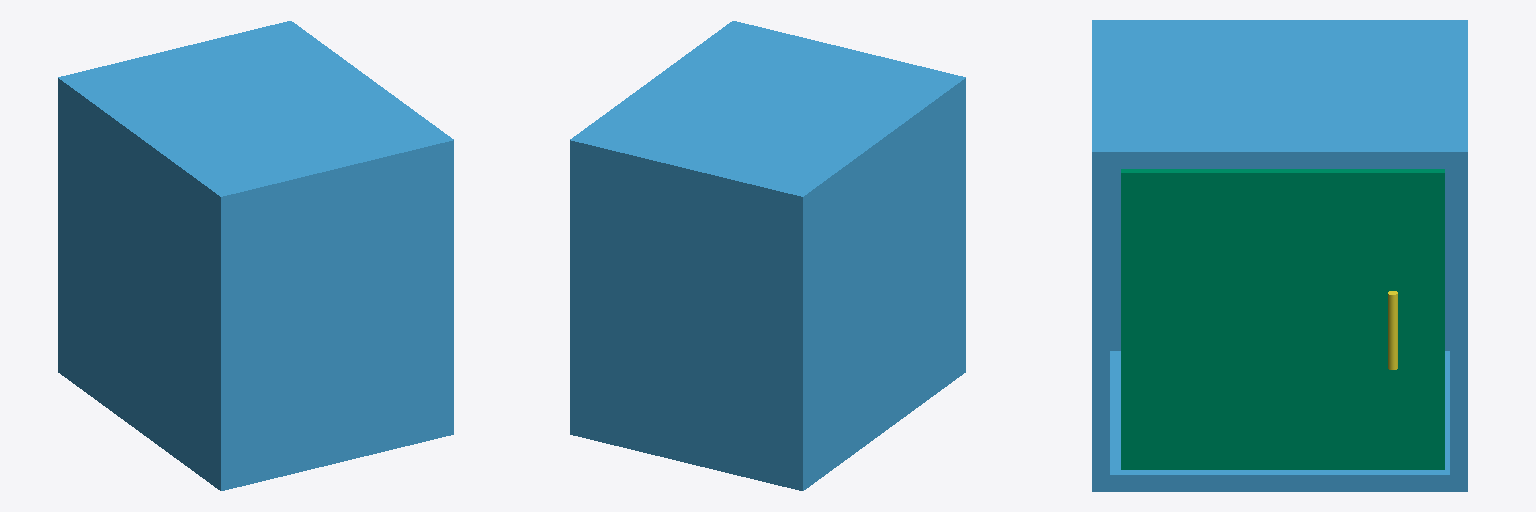
The robot description file, URDF, robot "my_cabinet":
<?xml version="1.0" ?>
<robot name="my_cabinet">
	<link name="world"/>
	<joint name="virtual_joint" type="fixed">
		<parent link="world"/>
		<child link="base_cabinet_link"/>
		<origin xyz="0.0 0.0 0.0" rpy="0.0 0.0 0.0"/>
	</joint>
	<link name="base_cabinet_link">
		<visual>
			<origin xyz="0.0 -0.0025 -0.17178763787770465" rpy="0.0 0.0 0.0"/>
			<geometry>
				<box size="0.3 0.363681896552413 0.018"/>
			</geometry>
		</visual>
		<collision name="base_cabinet_link_collision_0">
			<origin xyz="0.0 -0.0025 -0.17178763787770465" rpy="0.0 0.0 0.0"/>
			<geometry>
				<box size="0.3 0.363681896552413 0.018"/>
			</geometry>
		</collision>
		<visual>
			<origin xyz="0.0 0.17034094827620652 0.0" rpy="0.0 0.0 0.0"/>
			<geometry>
				<box size="0.3 0.018 0.3615752757554093"/>
			</geometry>
		</visual>
		<collision name="base_cabinet_link_collision_1">
			<origin xyz="0.0 0.17034094827620652 0.0" rpy="0.0 0.0 0.0"/>
			<geometry>
				<box size="0.3 0.018 0.3615752757554093"/>
			</geometry>
		</collision>
		<visual>
			<origin xyz="0.0 -0.17534094827620653 0.0" rpy="0.0 0.0 0.0"/>
			<geometry>
				<box size="0.3 0.018 0.3615752757554093"/>
			</geometry>
		</visual>
		<collision name="base_cabinet_link_collision_2">
			<origin xyz="0.0 -0.17534094827620653 0.0" rpy="0.0 0.0 0.0"/>
			<geometry>
				<box size="0.3 0.018 0.3615752757554093"/>
			</geometry>
		</collision>
		<visual>
			<origin xyz="0.0 -0.0025 0.17178763787770465" rpy="0.0 0.0 0.0"/>
			<geometry>
				<box size="0.3 0.363681896552413 0.018"/>
			</geometry>
		</visual>
		<collision name="base_cabinet_link_collision_3">
			<origin xyz="0.0 -0.0025 0.17178763787770465" rpy="0.0 0.0 0.0"/>
			<geometry>
				<box size="0.3 0.363681896552413 0.018"/>
			</geometry>
		</collision>
		<visual>
			<origin xyz="-0.141 -0.0025 0.0" rpy="0.0 0.0 0.0"/>
			<geometry>
				<box size="0.018 0.363681896552413 0.3615752757554093"/>
			</geometry>
		</visual>
		<collision name="base_cabinet_link_collision_4">
			<origin xyz="-0.141 -0.0025 0.0" rpy="0.0 0.0 0.0"/>
			<geometry>
				<box size="0.018 0.363681896552413 0.3615752757554093"/>
			</geometry>
		</collision>
		<inertial>
			<mass value="0.200000"/>
			<inertia ixx="0.004383" ixy="0.0" ixz="0.0" iyy="0.003679" iyz="0.0" izz="0.003704"/>
		</inertial>
	</link>
	<link name="door_link">
		<visual>
			<origin xyz="0.0 -0.1563409482762065 0.0"/>
			<geometry>
				<box size="0.018 0.312681896552413 0.3155752757554093"/>
			</geometry>
		</visual>
		<collision name="door_link_collision">
			<origin xyz="0.0 -0.1563409482762065 0.0"/>
			<geometry>
				<box size="0.018 0.312681896552413 0.3155752757554093"/>
			</geometry>
		</collision>
		<inertial>
			<mass value="0.200000"/>
			<inertia ixx="0.003289" ixy="0.0" ixz="0.0" iyy="0.001665" iyz="0.0" izz="0.001635"/>
		</inertial>
	</link>
	<joint name="door_joint" type="revolute">
		<origin xyz="0.141 -0.1563409482762065 0.0" rpy="0.000000 -0.000000 3.141593"/>
		<axis xyz="0 0 1"/>
		<parent link="base_cabinet_link"/>
		<child link="door_link"/>
		<limit effort="50" lower="-1.658062789394613" upper="0" velocity="10"/>
		<dynamics friction="3.5" damping="3.5"/>
	</joint>
	<link name="handle_link">
		<visual>
			<origin xyz="0.0 0.0 0.0" rpy="0.0 0.0 0.0"/>
			<geometry>
				<cylinder length="0.08" radius="0.005"/>
			</geometry>
		</visual>
		<collision name="handle_link_collision_0">
			<origin xyz="0.0 0.0 0.0" rpy="0.0 0.0 0.0"/>
			<geometry>
				<cylinder length="0.08" radius="0.005"/>
			</geometry>
		</collision>
		<visual>
			<origin xyz="-0.01 0.0 0.02" rpy="0.0 1.5707963267948966 0.0"/>
			<geometry>
				<cylinder length="0.02" radius="0.003"/>
			</geometry>
		</visual>
		<collision name="handle_link_collision_1">
			<origin xyz="-0.01 0.0 0.02" rpy="0.0 1.5707963267948966 0.0"/>
			<geometry>
				<cylinder length="0.01" radius="0.003"/>
			</geometry>
		</collision>
		<visual>
			<origin xyz="-0.01 0.0 -0.02" rpy="0.0 1.5707963267948966 0.0"/>
			<geometry>
				<cylinder length="0.02" radius="0.003"/>
			</geometry>
		</visual>
		<collision name="handle_link_collision_2">
			<origin xyz="-0.01 0.0 -0.02" rpy="0.0 1.5707963267948966 0.0"/>
			<geometry>
				<cylinder length="0.02" radius="0.003"/>
			</geometry>
		</collision>
		<inertial>
			<mass value="0.050000"/>
			<inertia ixx="0.000027" ixy="0.0" ixz="0.0" iyy="0.000029" iyz="0.0" izz="0.000003"/>
		</inertial>
	</link>
	<joint name="handle_joint" type="fixed">
		<origin xyz="-0.028999999999999998 -0.26268189655241303 0.0" rpy="0.000000 -0.000000 3.141593"/>
		<parent link="door_link"/>
		<child link="handle_link"/>
	</joint>
	<gazebo reference="base_cabinet_link">
		<sensor name="main_sensor" type="contact">
			<selfCollide>true</selfCollide>
			<alwaysOn>true</alwaysOn>
			<updateRate>5.0</updateRate>
			<material>Gazebo/Red</material>
			<contact>
				<collision>base_cabinet_link_collision_0_collision</collision>
				<collision>base_cabinet_link_collision_1_collision</collision>
				<collision>base_cabinet_link_collision_2_collision</collision>
				<collision>base_cabinet_link_collision_3_collision</collision>
				<collision>base_cabinet_link_collision_4_collision</collision>
			</contact>
			<plugin name="gazebo_ros_bumper_controller" filename="libgazebo_ros_bumper.so">
				<bumperTopicName>/contact</bumperTopicName>
				<frameName>world</frameName>
			</plugin>
		</sensor>
	</gazebo>
	<gazebo reference="door_link">
		<sensor name="main_sensor" type="contact">
			<selfCollide>true</selfCollide>
			<alwaysOn>true</alwaysOn>
			<updateRate>5.0</updateRate>
			<material>Gazebo/Red</material>
			<contact>
				<collision>door_link_collision_collision</collision>
			</contact>
			<plugin name="gazebo_ros_bumper_controller" filename="libgazebo_ros_bumper.so">
				<bumperTopicName>/contact_door</bumperTopicName>
				<frameName>contact_door</frameName>
			</plugin>
		</sensor>
	</gazebo>
	<gazebo reference="door_link">
		<mu>3.0</mu>
		<mu2>3.0</mu2>
		<kp>10000000</kp>
		<kd>100</kd>
	</gazebo>
</robot>

--- Render facts (derived) ---
3 views of the same robot in one strip: view 1: azimuth 30°, elevation 25°; view 2: azimuth 150°, elevation 25°; view 3: azimuth 270°, elevation 25° (orthographic).
Robot: my_cabinet — 4 links, 3 joints (1 revolute, 2 fixed); root link world; default pose: all joints at 0.
Links seen in each view (by area): view 1: base_cabinet_link; view 2: base_cabinet_link; view 3: door_link, base_cabinet_link, handle_link.
Link boxes in pixels (<box>): base_cabinet_link: <box>58,21,453,490</box>; base_cabinet_link: <box>570,21,965,490</box>; door_link: <box>1121,169,1444,469</box>; base_cabinet_link: <box>1092,20,1467,491</box>; handle_link: <box>1388,291,1397,369</box>.
Size in the robot's own frame: 0.325 by 0.3637 by 0.3616 metres.
Geometry: primitives only (box / cylinder / sphere), no mesh files.
